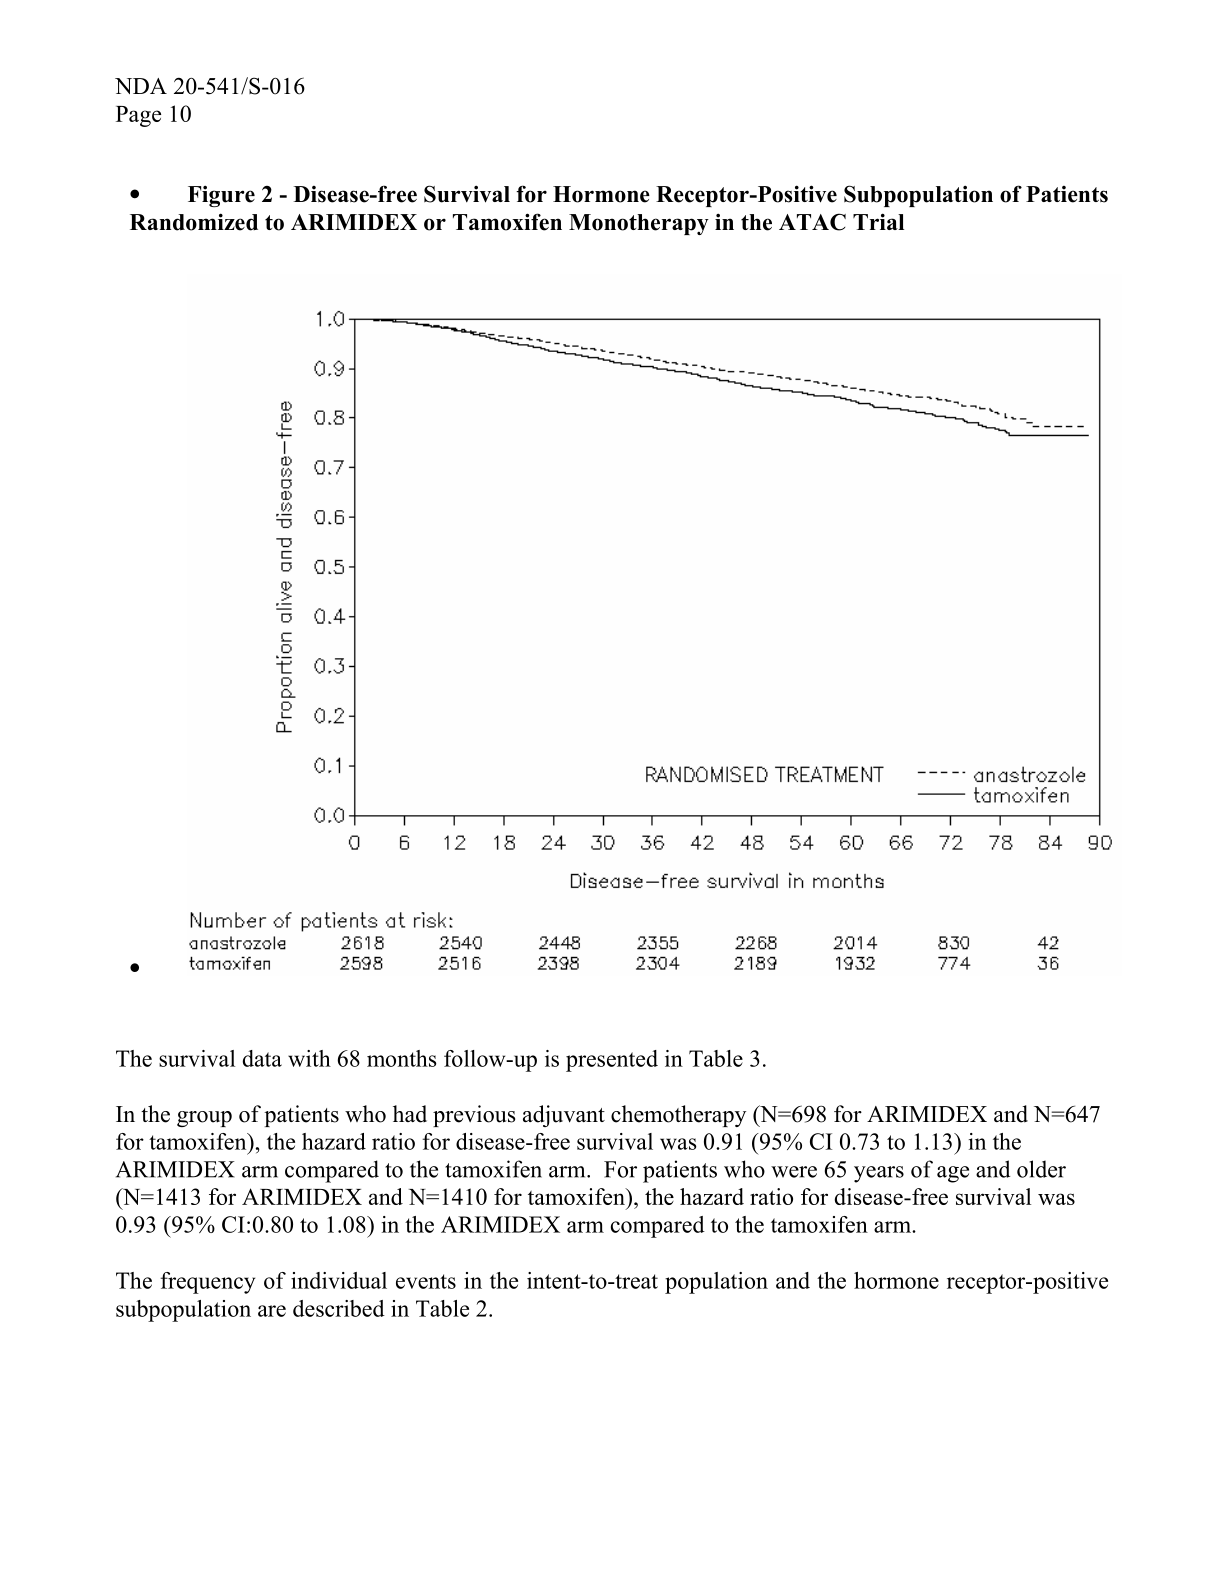nolines: (186, 909, 1065, 973)
